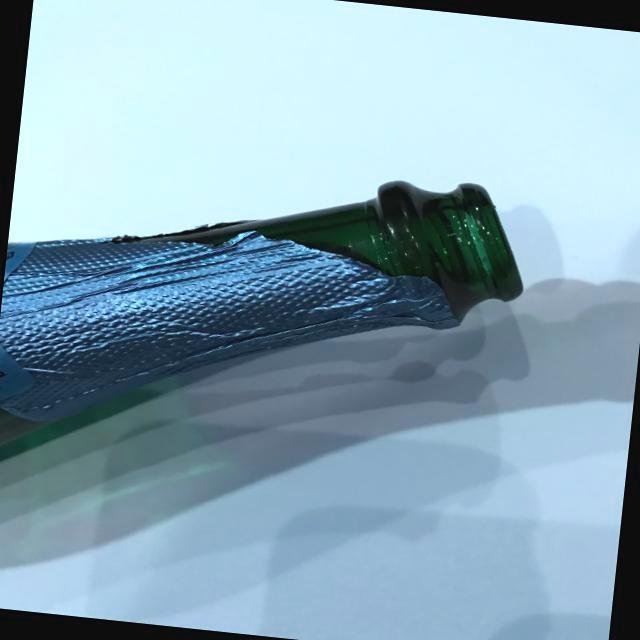glass: (0, 133, 537, 526)
